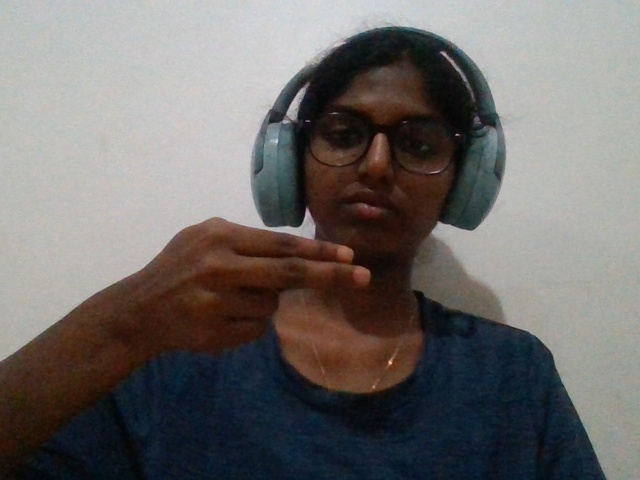H: (3, 201, 418, 435)
